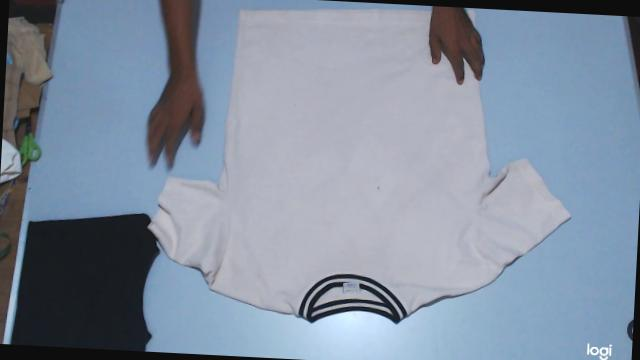new-garment: (150, 9, 569, 322)
